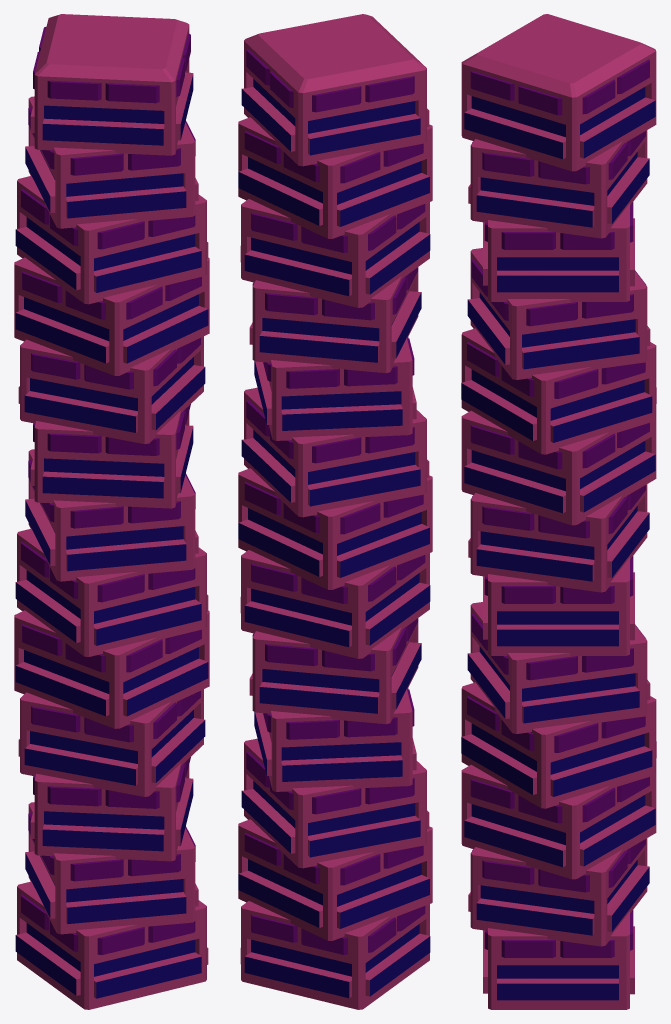
File: core.obj
The picture shows the model from 3 angles, left to right: view 1: azimuth 30°, elevation 25°; view 2: azimuth 150°, elevation 25°; view 3: azimuth 270°, elevation 25°; orthographic projection.
Visible parts, largest first — view 1: Cube_Cube.008; view 2: Cube_Cube.008; view 3: Cube_Cube.008.
Boxes of the visible parts, left/top/right/bottom form: Cube_Cube.008: left=14, top=14, right=209, bottom=1009; Cube_Cube.008: left=238, top=14, right=432, bottom=1009; Cube_Cube.008: left=461, top=14, right=656, bottom=1009.
Bounding box in the file's own units: 8.26 × 43.41 × 8.26.
